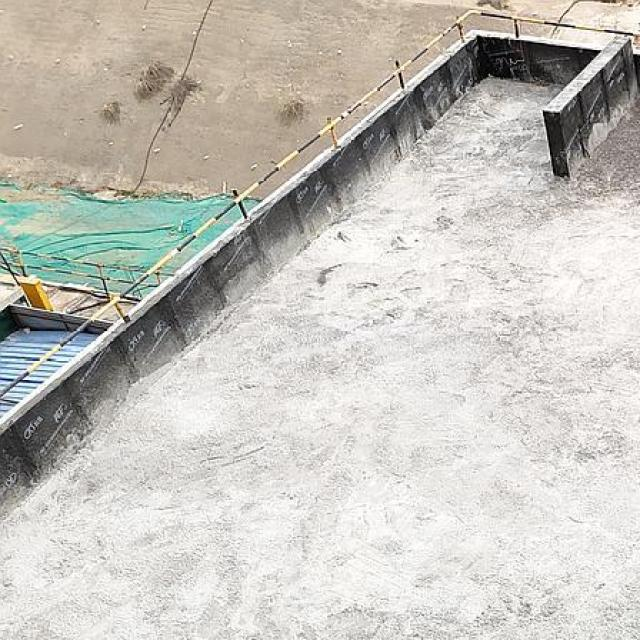Guardrail: (0, 8, 634, 415), (0, 245, 176, 294)
